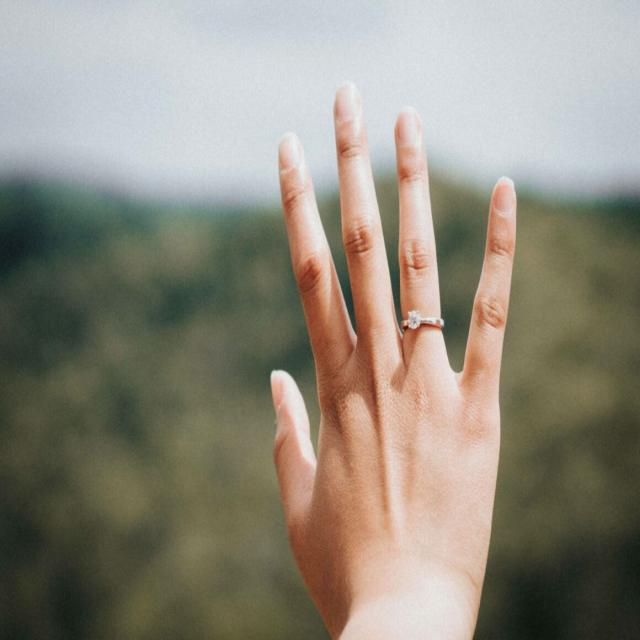Ring: (268, 79, 520, 637), (398, 307, 446, 335)
